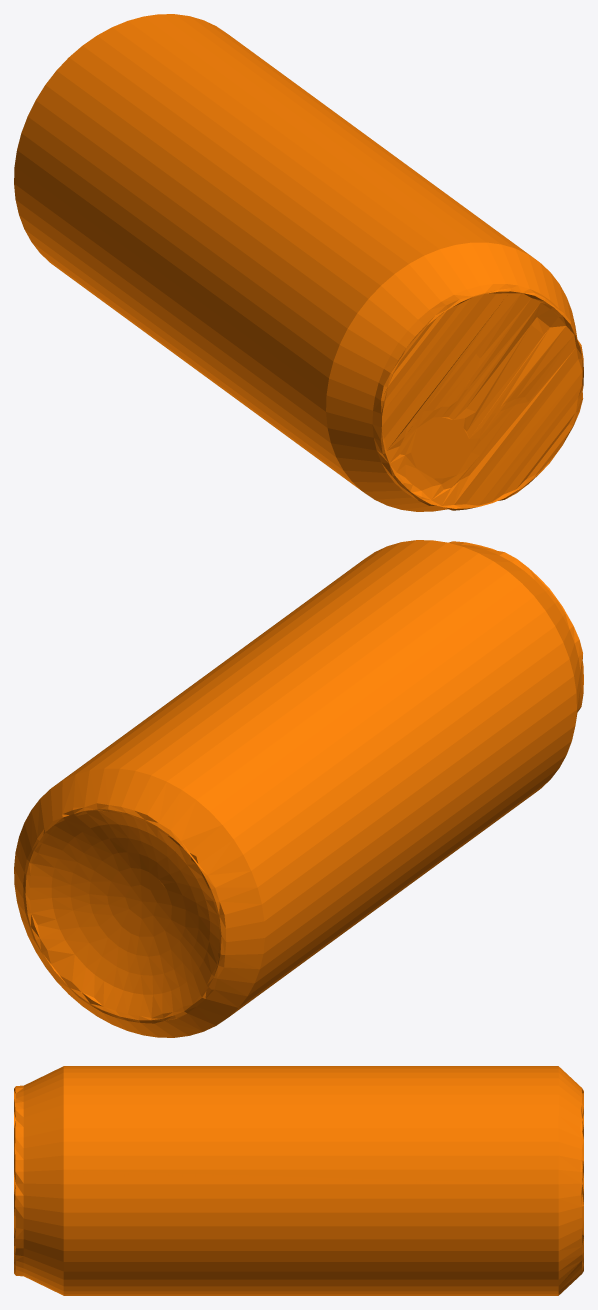
The model's file is model_align.obj.
The picture shows the model from 3 angles, top to bottom: view 1: azimuth 30°, elevation 25°; view 2: azimuth 150°, elevation 25°; view 3: azimuth 270°, elevation 25°; orthographic projection. The views are drawn at different scales.
Size of the model in its own units: 0.054 by 0.054 by 0.134.
